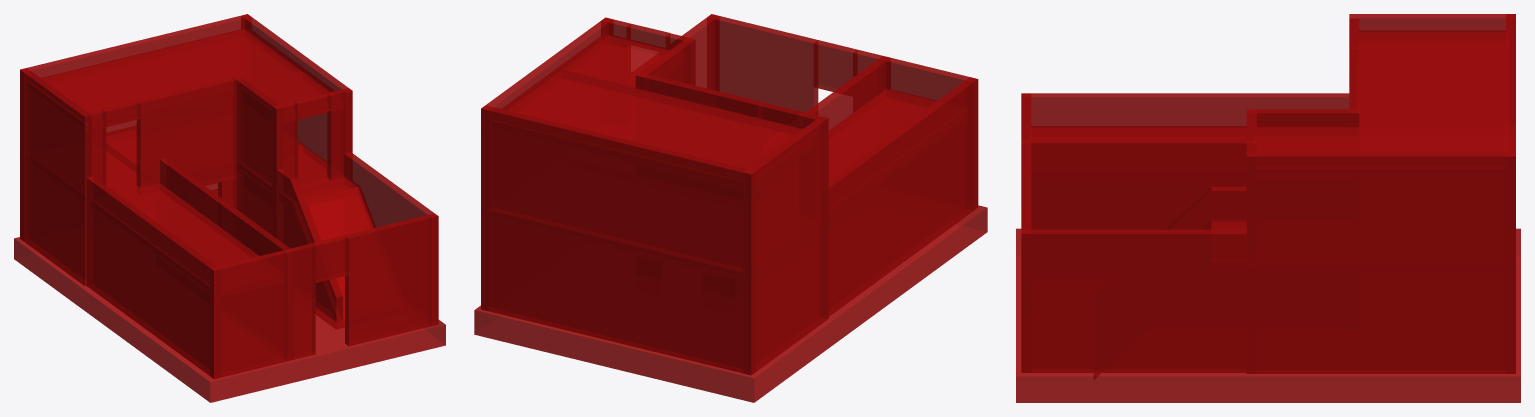
File: SM_Bld_Village_House_01_Collision.fbx
The picture shows the model from 3 angles, left to right: view 1: azimuth 30°, elevation 25°; view 2: azimuth 150°, elevation 25°; view 3: azimuth 270°, elevation 25°; orthographic projection. The views are drawn at different scales.
Visible parts, largest first — view 1: SM_Bld_Village_House_01_Collision; view 2: SM_Bld_Village_House_01_Collision; view 3: SM_Bld_Village_House_01_Collision.
Part boxes in pixels (bbox=[...]): SM_Bld_Village_House_01_Collision: bbox=[14, 14, 445, 402]; SM_Bld_Village_House_01_Collision: bbox=[474, 14, 987, 402]; SM_Bld_Village_House_01_Collision: bbox=[1016, 14, 1520, 402].
Bounding box in the file's own units: 874 × 674 × 1263.
